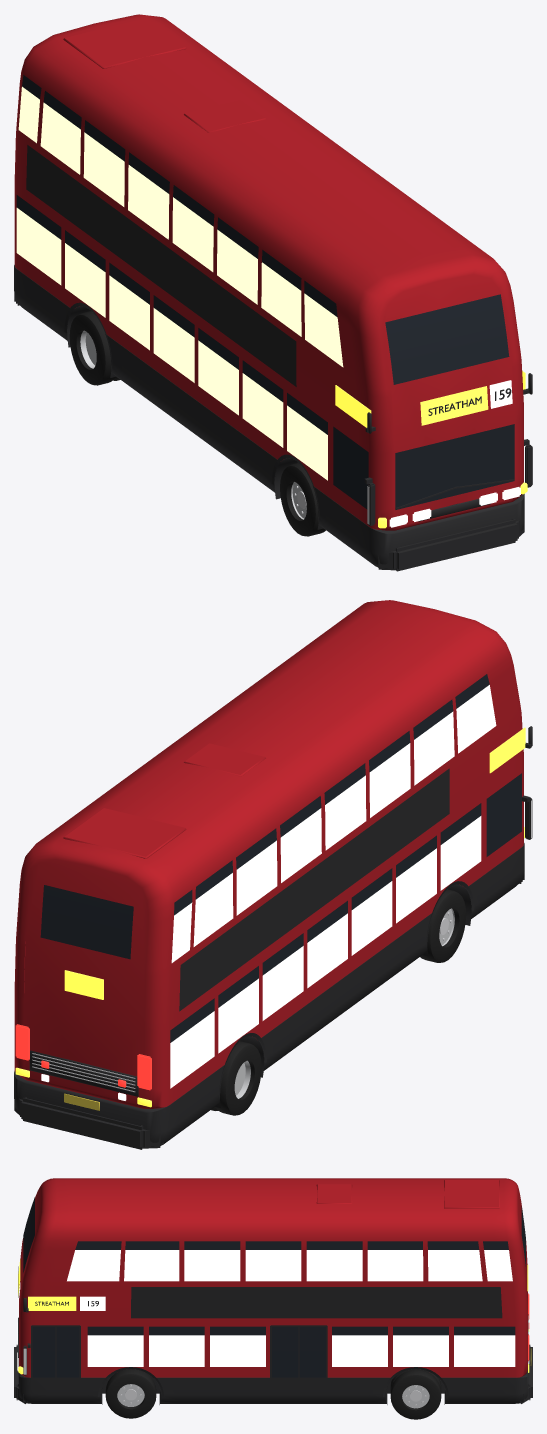
Rendered from bus.glb.
3 renders of one model, top to bottom at view 1: azimuth 30°, elevation 25°; view 2: azimuth 150°, elevation 25°; view 3: azimuth 270°, elevation 25°, orthographic. The views are drawn at different scales.
Parts seen in each view (by area): view 1: body, trim, emit_window, glass, emit_sign, wheel_rr, wheel_fr, mirrors, lights; view 2: body, trim, emit_window, glass, wheel_rr, wheel_fr, emit_sign, lights; view 3: body, trim, emit_window, glass, wheel_rl, wheel_fl, emit_sign.
Part boxes in pixels (left/top/right/bottom): body: left=14, top=14, right=523, bottom=530; trim: left=14, top=145, right=524, bottom=571; emit_window: left=16, top=86, right=343, bottom=480; glass: left=16, top=75, right=514, bottom=509; emit_sign: left=335, top=371, right=525, bottom=427; wheel_rr: left=69, top=311, right=120, bottom=385; wheel_fr: left=280, top=463, right=325, bottom=536; mirrors: left=364, top=373, right=532, bottom=525; lights: left=378, top=482, right=527, bottom=528; body: left=14, top=600, right=523, bottom=1108; trim: left=14, top=768, right=524, bottom=1149; emit_window: left=170, top=685, right=496, bottom=1088; glass: left=40, top=674, right=521, bottom=1042; wheel_rr: left=211, top=1041, right=261, bottom=1115; wheel_fr: left=420, top=889, right=466, bottom=962; emit_sign: left=64, top=727, right=525, bottom=999; lights: left=15, top=827, right=525, bottom=1107; body: left=19, top=1178, right=527, bottom=1377; trim: left=14, top=1287, right=532, bottom=1404; emit_window: left=67, top=1250, right=515, bottom=1366; glass: left=23, top=1197, right=525, bottom=1377; wheel_rl: left=390, top=1369, right=441, bottom=1419; wheel_fl: left=105, top=1369, right=156, bottom=1418; emit_sign: left=18, top=1259, right=528, bottom=1310.
Size of the model in its own units: 2.56 by 4.35 by 10.2.
